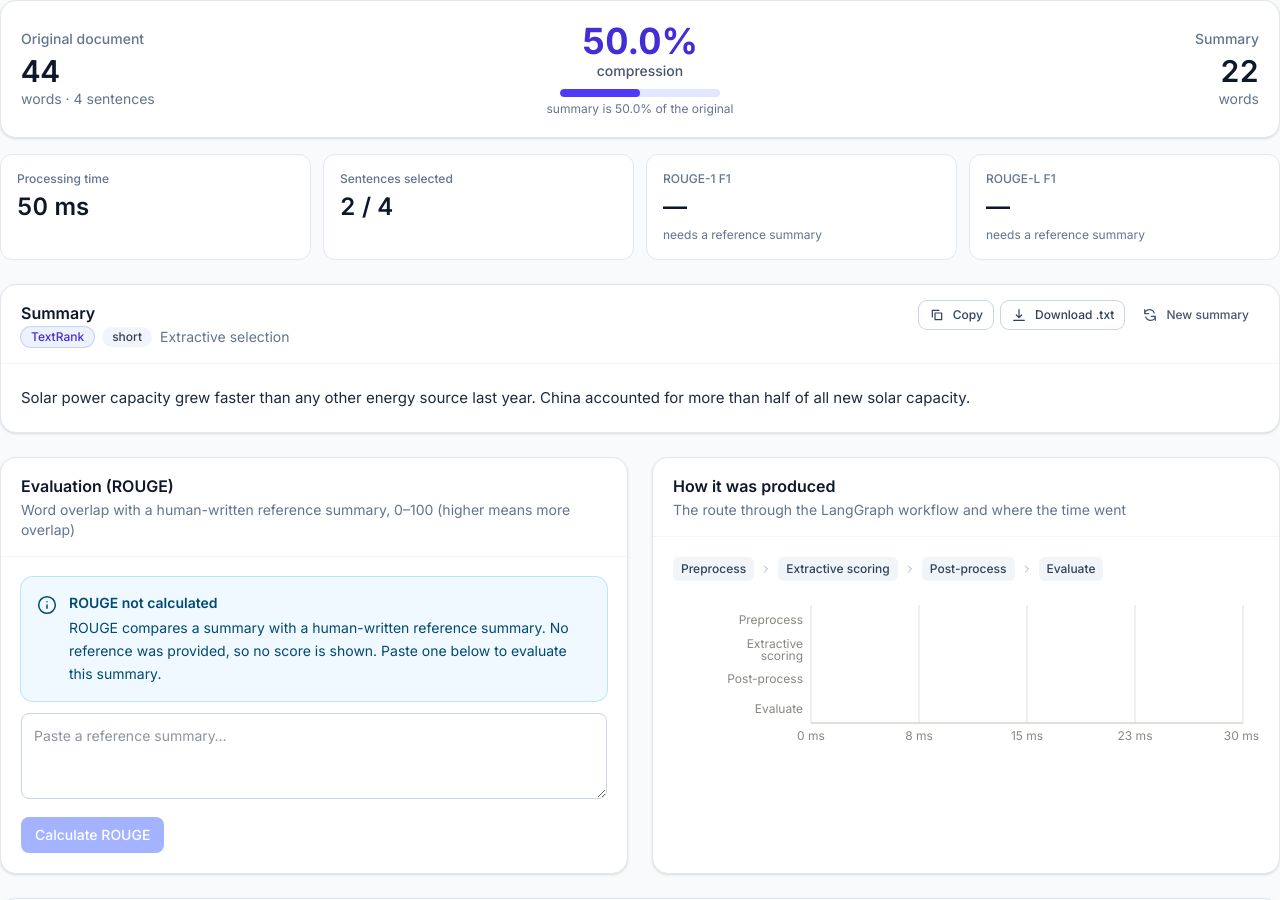
Test: ResultView (extractive) › explains that ROUGE needs a reference and evaluates one on request
Expected: the text "ROUGE not calculated" is shown, [69,594,218,611]
Type "Solar grew fastest." into the text box labelled "reference summary" at (314, 756), box [21,713,607,799]
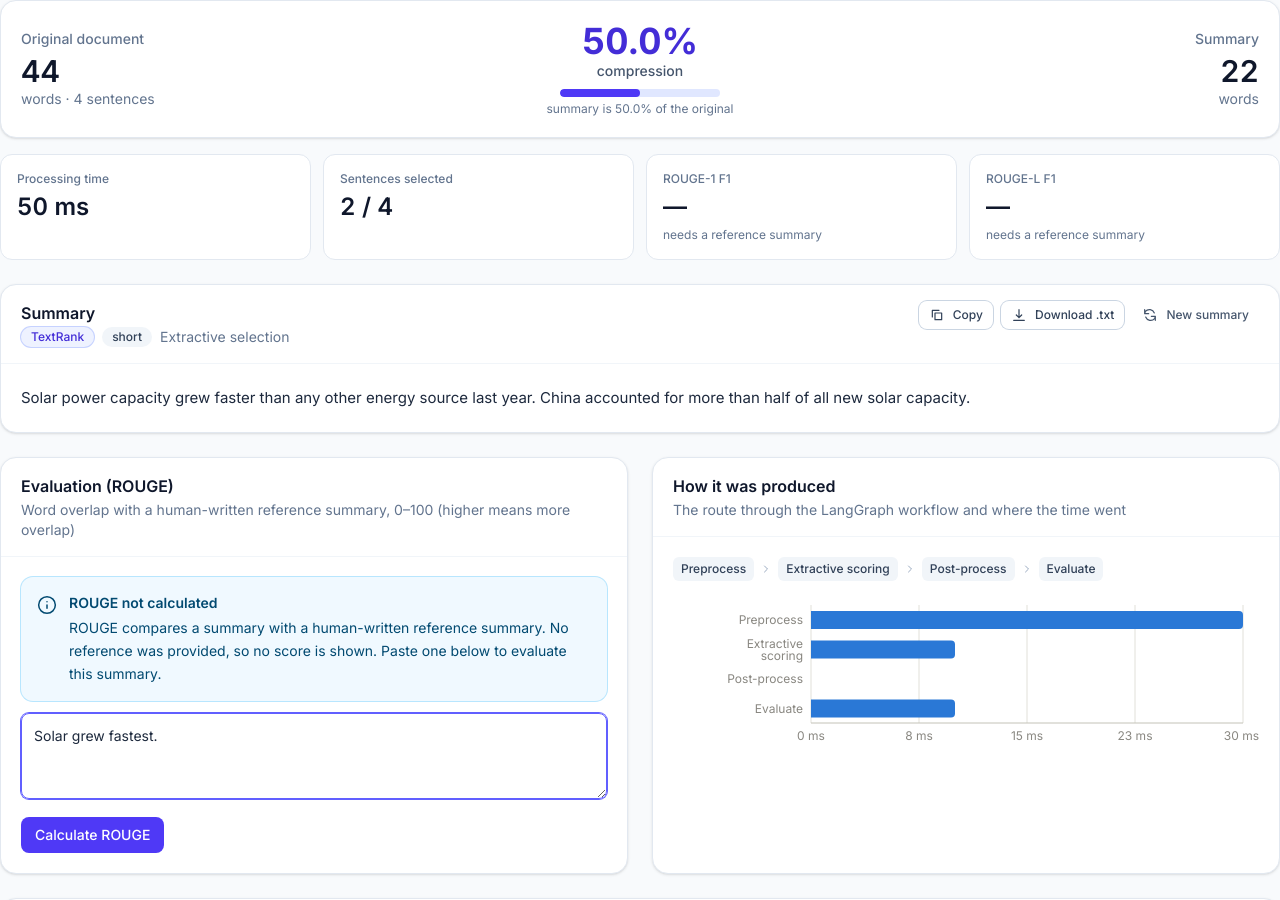
Click the button "Calculate ROUGE" at (93, 835), box [21,817,164,853]
(page scrolled)
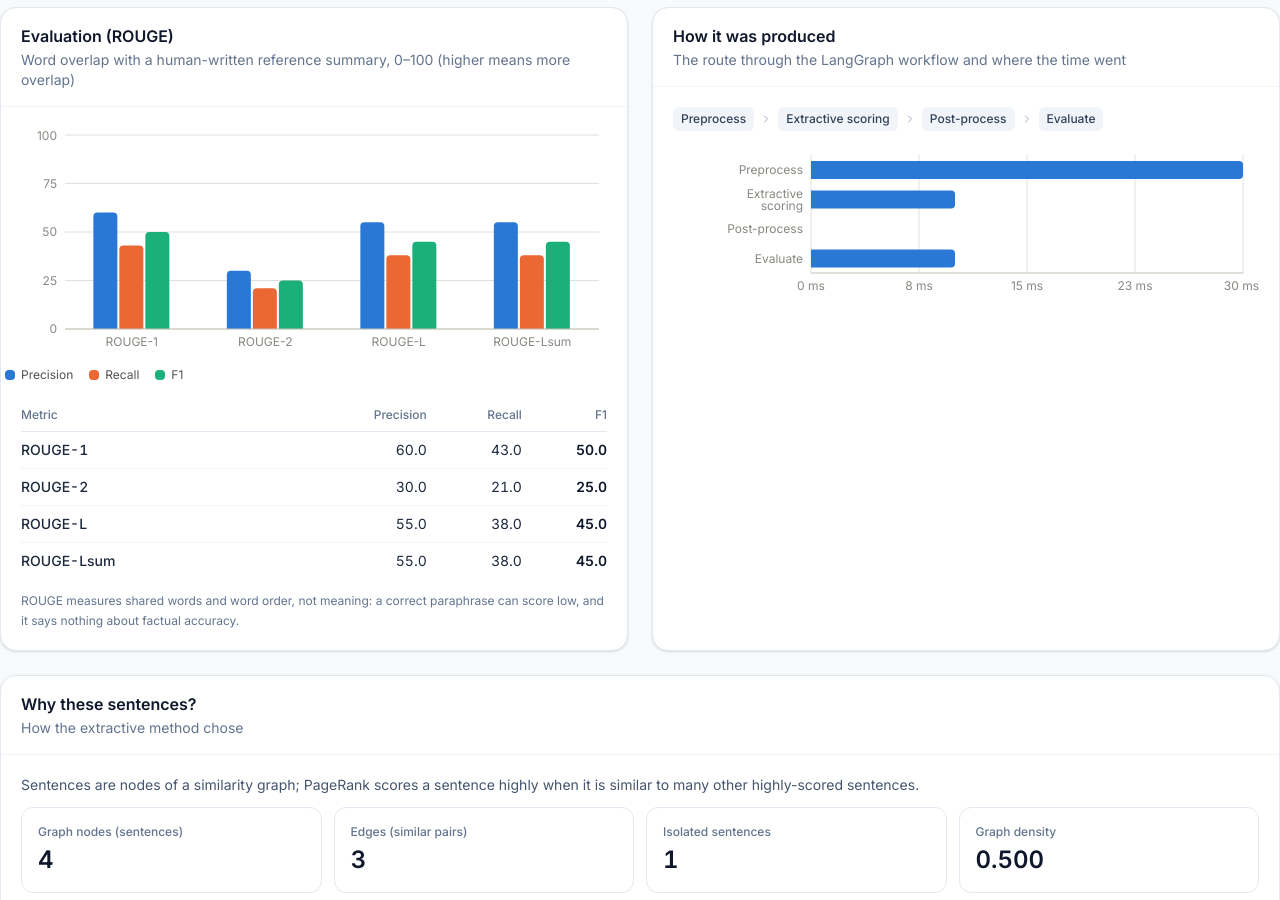
Result: the text "ROUGE-1" is shown at [21,432,281,468]
Result: the text "50.0" is shown at [522,432,607,468]
